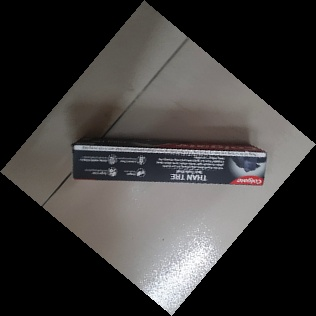Colgate Than: (72, 135, 269, 188)
